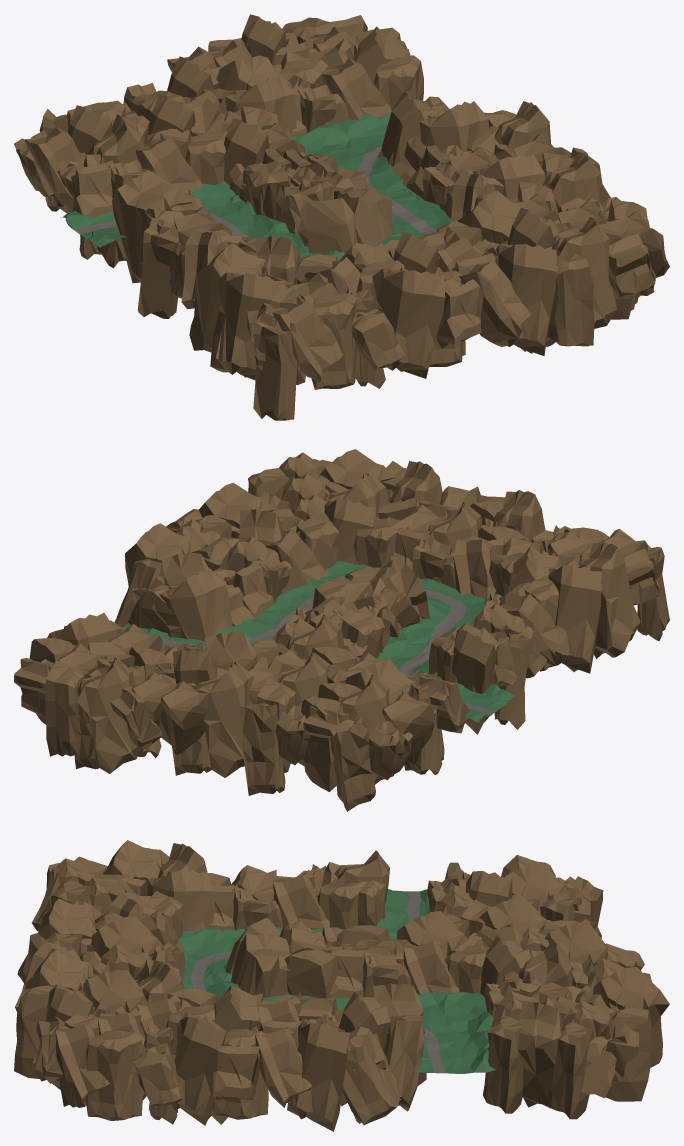
The model's file is junkyard_pathway.fbx.
3 renders of one model, top to bottom at view 1: azimuth 30°, elevation 25°; view 2: azimuth 150°, elevation 25°; view 3: azimuth 270°, elevation 25°, orthographic. The views are drawn at different scales.
Parts seen in each view (by area): view 1: ground, pCube138, pCube168, pCube144, pCube172, pCube145, pCube55, pCube49 (×2), pCube88, pCube134, pCube170, pCube92 (+69 smaller); view 2: ground, pCube88, pCube150, pCube120, pCube168, pCube105, pCube124, pCube130, pCube51 (×2), pCube151, pCube55, pCube49 (×2) (+77 smaller); view 3: ground, pCube184, pCube49 (×2), pCube191, pCube190, pCube185, pCube108, pCube75, pCube94, pCube109, pCube150, pCube198 (+75 smaller).
Part boxes in pixels (x1,y1,x2,y2): ground: (60,110,450,261); pCube138: (372,267,445,378); pCube168: (210,272,284,380); pCube144: (489,244,556,355); pCube172: (253,317,296,420); pCube145: (547,253,594,346); pCube55: (112,171,191,283); pCube49 (×2): (216,55,300,284); pCube88: (189,243,266,352); pCube134: (459,260,531,343); pCube170: (270,296,343,382); pCube92: (137,217,179,318); ground: (123,561,515,722); pCube88: (548,565,601,673); pCube150: (77,657,143,773); pCube120: (197,661,253,777); pCube168: (578,542,640,658); pCube105: (151,569,232,641); pCube124: (240,703,285,795); pCube130: (330,714,375,811); pCube51 (×2): (88,536,505,666); pCube151: (45,660,84,756); pCube55: (452,622,498,734); pCube49 (×2): (173,546,563,739); ground: (178,889,495,1073); pCube184: (287,1020,350,1131); pCube49 (×2): (140,869,572,986); pCube191: (86,1030,143,1120); pCube190: (171,1012,226,1125); pCube185: (342,1026,401,1125); pCube108: (518,1001,563,1108); pCube75: (231,933,291,997); pCube94: (483,1016,523,1113); pCube109: (547,1022,593,1119); pCube150: (593,967,669,1067); pCube198: (255,1026,312,1107).
Size of the model in its own units: 2279 by 623 by 3083.
